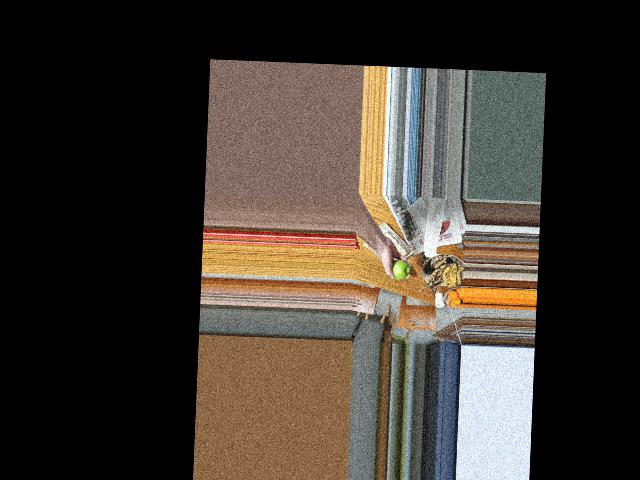apple: (388, 257, 409, 281)
